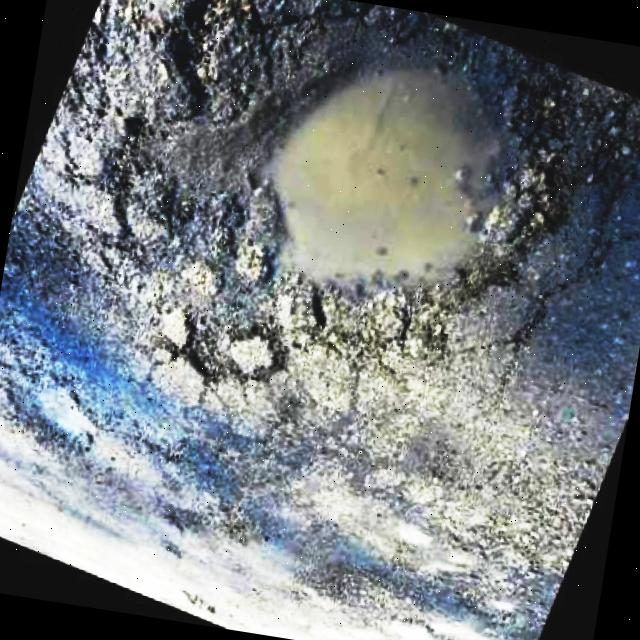pothole: (61, 0, 640, 414), (0, 344, 109, 459)
